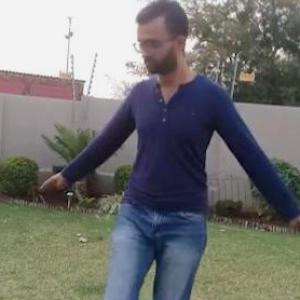land: (57, 15, 299, 299)
